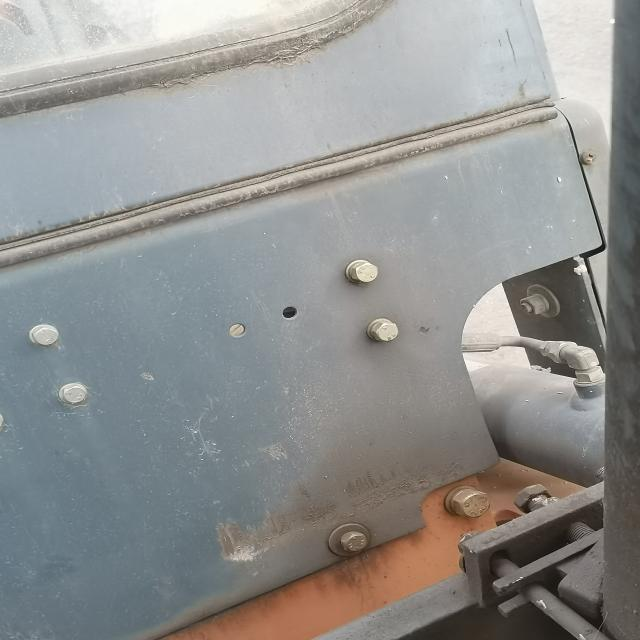bolt head: (450, 487, 492, 519), (28, 324, 62, 348), (350, 259, 379, 285), (370, 320, 401, 343), (338, 531, 369, 554), (60, 383, 89, 405)
bolt nut: (511, 482, 551, 514), (547, 339, 583, 366), (518, 296, 547, 316)
